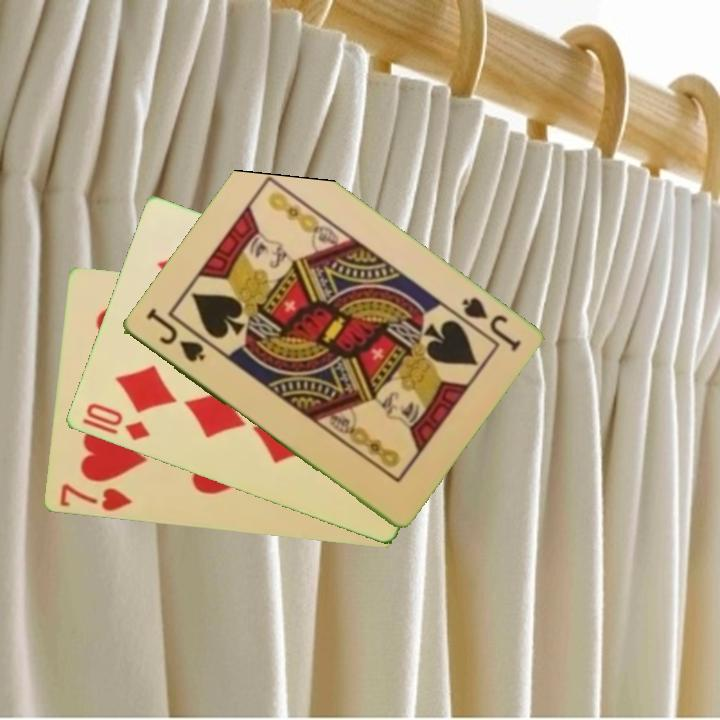10d: (78, 399, 153, 444)
7h: (55, 480, 134, 515)
Js: (458, 294, 523, 355), (142, 306, 208, 365)
